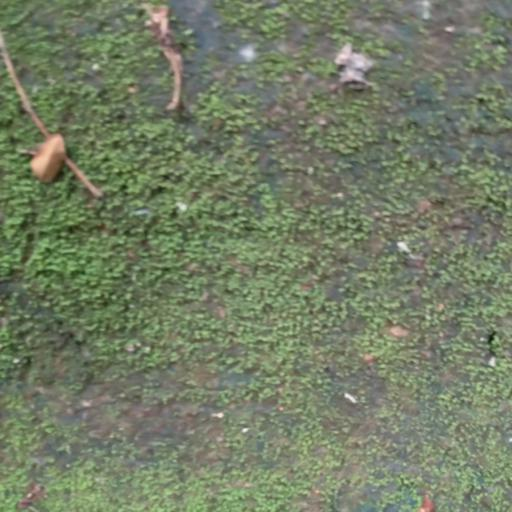algae: (5, 1, 512, 506)
